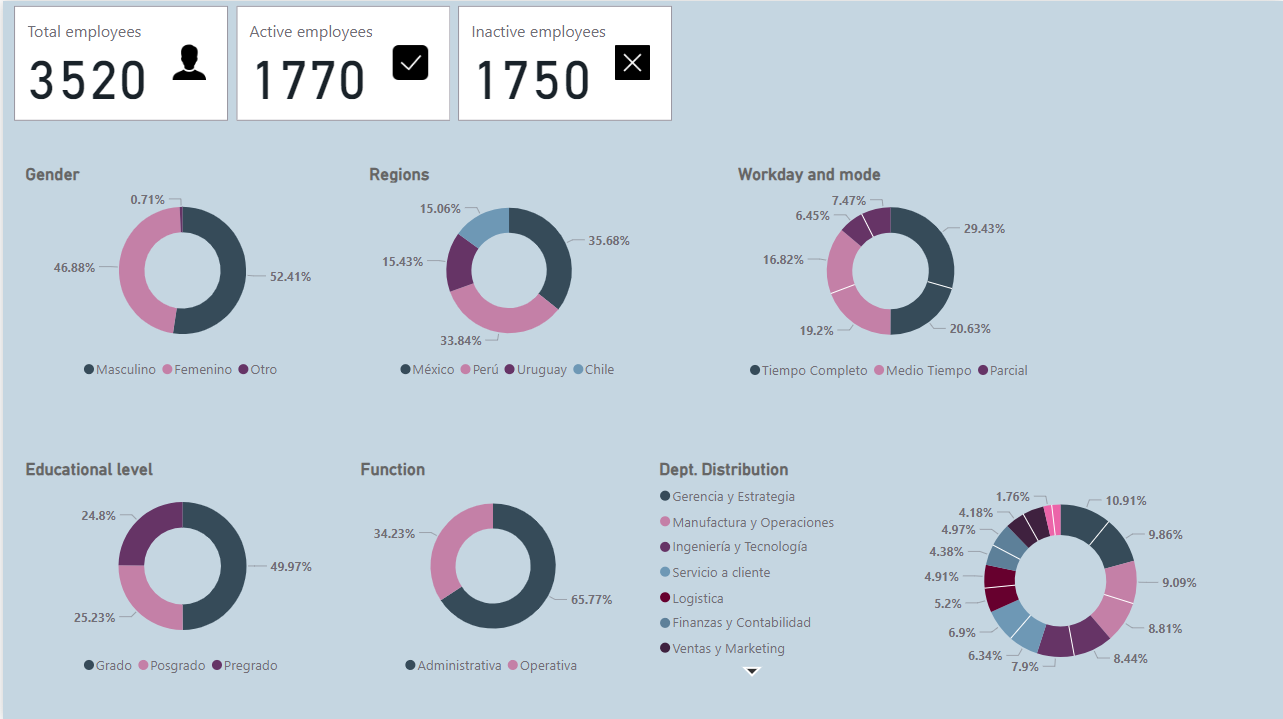

The dashboard page shown, as its layout file describes it:
{"tool":"powerbi","page":{"name":"Page 1","canvas":[1280,720],"ordinal":0},"visuals":[{"type":"cardVisual","fields":{"Data":["Tabla1.Tot employes","Tabla1.Tot active","Tabla1.Tot unactive"]},"box":[6.7,0,670,125.6],"z":0},{"type":"donutChart","title":"Gender","fields":{"Y":["CountNonNull(Tabla1.ID Empleado)"],"Category":["Tabla1.Género"]},"box":[17.8,162.2,324.4,224.4],"z":1000},{"type":"donutChart","title":"Dept. Distribution","fields":{"Y":["CountNonNull(Tabla1.ID Empleado)"],"Category":["Tabla1.Departamento"],"Series":["Tabla1.Estatus"]},"box":[651.1,457.8,628.9,225.6],"z":2000},{"type":"donutChart","title":"Educational level","fields":{"Y":["CountNonNull(Tabla1.ID Empleado)"],"Category":["Tabla1.Educación"]},"box":[17.8,457.8,324.4,225.6],"z":3000},{"type":"donutChart","title":"Function","fields":{"Y":["CountNonNull(Tabla1.ID Empleado)"],"Category":["Tabla1.Función"]},"box":[352.2,457.8,275.6,225.6],"z":4000},{"type":"donutChart","title":"Regions","fields":{"Y":["CountNonNull(Tabla1.ID Empleado)"],"Category":["Tabla1.Región"]},"box":[361.1,162.2,290,224.4],"z":5000},{"type":"donutChart","title":"Workday and mode","fields":{"Y":["CountNonNull(Tabla1.ID Empleado)"],"Category":["Tabla1.Jornada"],"Series":["Tabla1.Modalidad"]},"box":[730,162.2,315.6,225.6],"z":6000}]}

Visuals, with their boxes in screenshot pixels (x1, y1, x2, y2), scaled from the page's 1280x720 canvas onto the 1283x719 screenshot:
cardVisual - Tabla1.Tot employes x Tabla1.Tot active: box=[7, 0, 678, 125]
"Gender" donutChart: box=[18, 162, 343, 386]
"Dept. Distribution" donutChart: box=[653, 457, 1282, 682]
"Educational level" donutChart: box=[18, 457, 343, 682]
"Function" donutChart: box=[353, 457, 629, 682]
"Regions" donutChart: box=[362, 162, 653, 386]
"Workday and mode" donutChart: box=[732, 162, 1048, 387]
